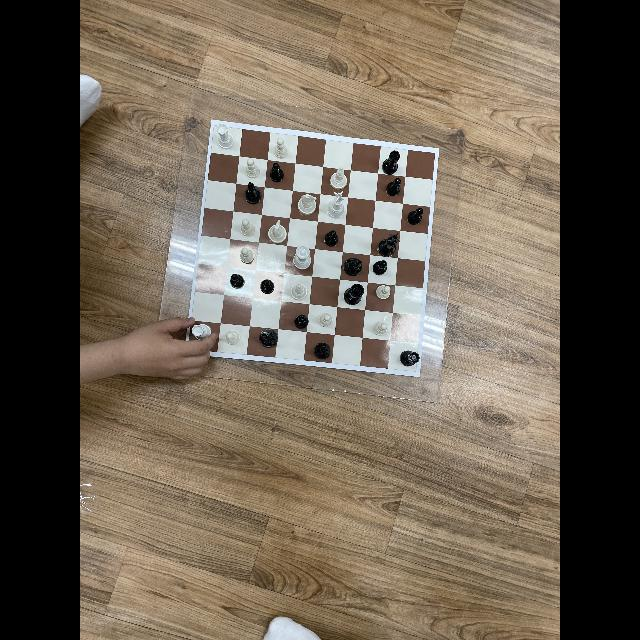chessboard-corner: (182, 348, 190, 357), (414, 372, 422, 380), (209, 116, 215, 124), (436, 144, 442, 152)
